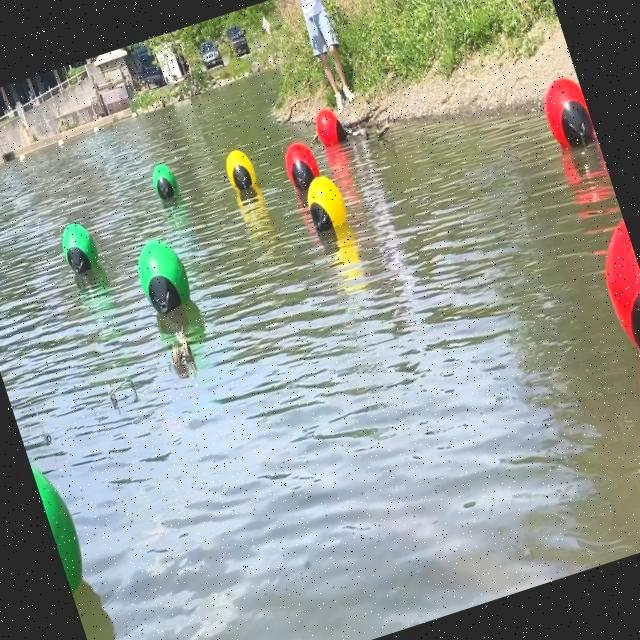buoy: (581, 207, 640, 396), (27, 444, 99, 598), (125, 231, 198, 324), (535, 70, 600, 164), (299, 170, 354, 238), (56, 217, 106, 280), (280, 136, 324, 197), (309, 101, 353, 151), (221, 147, 261, 201), (148, 158, 182, 204)
